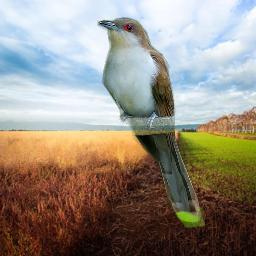Cuckoo: (97, 17, 205, 228)
